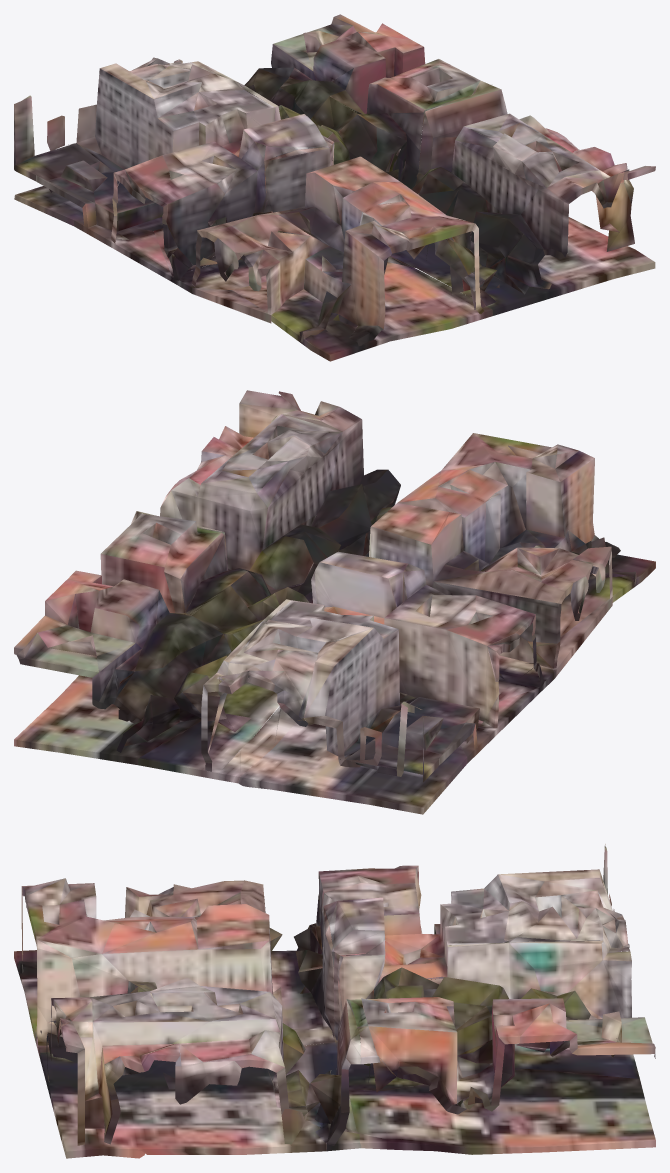
3 renders of one model, top to bottom at view 1: azimuth 30°, elevation 25°; view 2: azimuth 150°, elevation 25°; view 3: azimuth 270°, elevation 25°, orthographic. The views are drawn at different scales.
Visible parts, largest first — view 1: Mesh_0; view 2: Mesh_0; view 3: Mesh_0.
Boxes of the visible parts, x1,y1,x2,y2 form: Mesh_0: (14,14,655,361); Mesh_0: (14,390,655,814); Mesh_0: (14,844,655,1158).
Bounding box in the file's own units: 133 × 40.71 × 165.
Materials: 1 (1 with a texture image).
